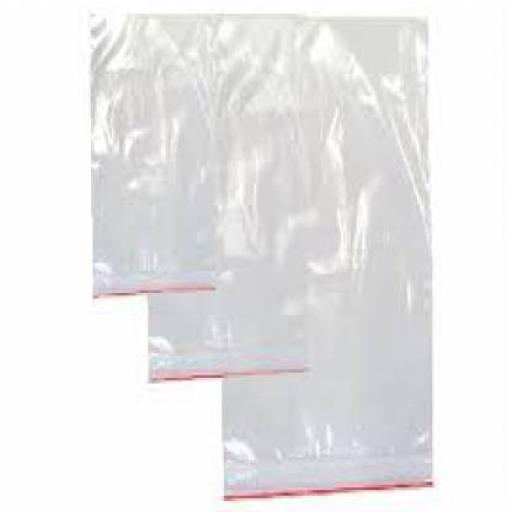plastic: (220, 22, 432, 510), (144, 17, 320, 388), (85, 14, 214, 302)
